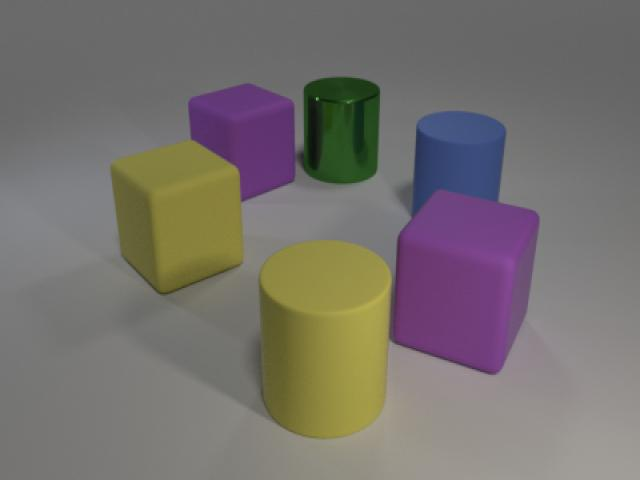cylinder: (255, 233, 392, 442), (412, 111, 507, 216), (301, 72, 384, 189)
